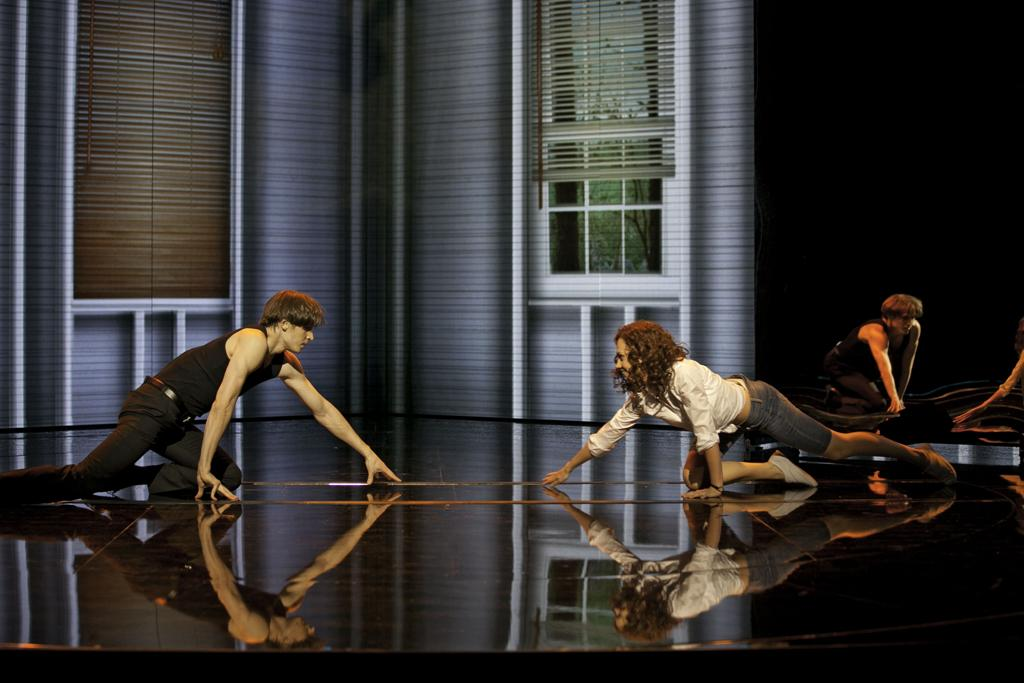face: (616, 340, 643, 383), (286, 312, 313, 353), (894, 307, 914, 337)
